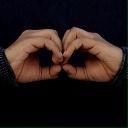hand: (61, 26, 124, 83), (3, 28, 63, 83)
